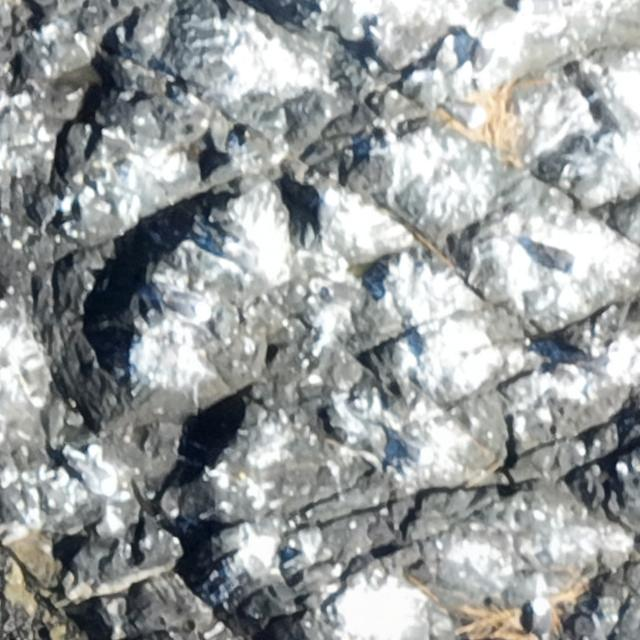umineko: (156, 286, 216, 320), (390, 428, 438, 467), (472, 23, 507, 71), (441, 98, 490, 128), (574, 56, 604, 104), (316, 185, 340, 245), (425, 35, 456, 75), (530, 248, 571, 270), (534, 604, 552, 639)
